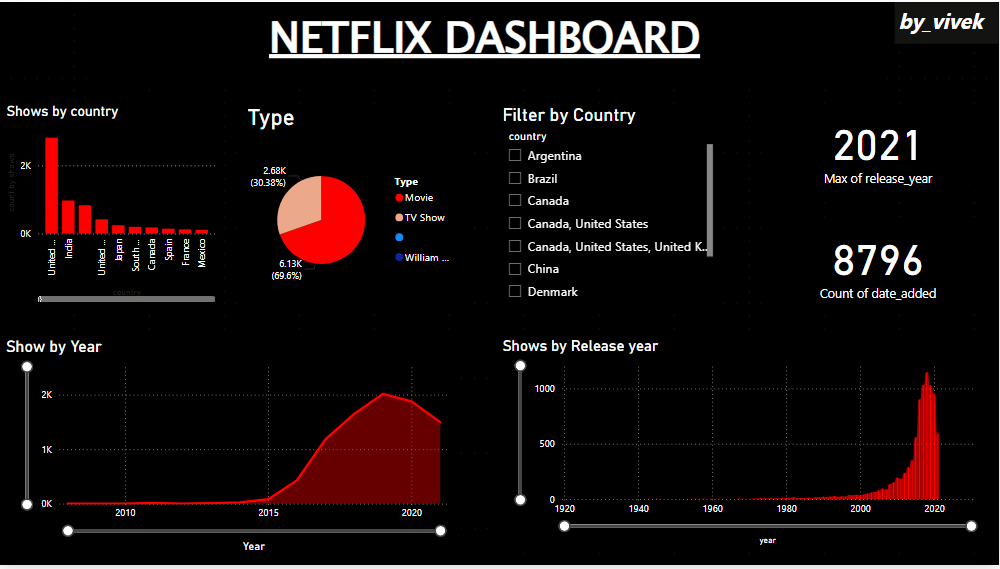

The page's visual inventory and layout, read from the dashboard file:
{"tool":"powerbi","page":{"name":"Page 1","canvas":[1280,720],"ordinal":0},"visuals":[{"type":"pieChart","title":" Type","fields":{"Category":["netflix_titles.Type"],"Y":["CountNonNull(netflix_titles.country)"]},"box":[313.6,129.7,279.4,260.8],"z":0},{"type":"lineChart","title":" Show  by Year","fields":{"Category":["netflix_titles.date_added.Variation.Date Hierarchy.Year","netflix_titles.date_added.Variation.Date Hierarchy.Quarter","netflix_titles.date_added.Variation.Date Hierarchy.Month","netflix_titles.date_added.Variation.Date Hierarchy.Day"],"Y":["CountNonNull(netflix_titles.Show id)"]},"box":[4.4,427.6,578.9,280.7],"z":1000},{"type":"columnChart","title":"Shows by country","fields":{"Category":["netflix_titles.country"],"Y":["netflix_titles.count by shows"]},"box":[4.4,129.5,279.3,261.8],"z":2000},{"type":"ribbonChart","title":"Shows by Release year","fields":{"Y":["netflix_titles.count by shows"],"Category":["netflix_titles.release_year"]},"box":[640,427.6,624.3,270.8],"z":3000},{"type":"card","fields":{"Values":["Max(netflix_titles.release_year)"]},"box":[984.9,129.7,279.4,111.2],"z":4000},{"type":"slicer","title":"Filter by Country","fields":{"Values":["netflix_titles.country"]},"box":[640,129.7,279.4,260.8],"z":5000},{"type":"card","fields":{"Values":["CountNonNull(netflix_titles.date_added)"]},"box":[984.9,276.5,279.4,114],"z":6000},{"type":"textbox","box":[119.7,0,1004.9,106.9],"z":7000},{"type":"textbox","box":[1146.7,0,133.3,53.3],"z":8000}]}

Visuals, with their boxes in screenshot pixels (x1, y1, x2, y2), scaled from the page's 1280x720 canvas onto the 1000x569 screenshot:
" Type" pieChart: bbox=(245, 102, 463, 309)
" Show  by Year" lineChart: bbox=(3, 338, 456, 560)
"Shows by country" columnChart: bbox=(3, 102, 222, 309)
"Shows by Release year" ribbonChart: bbox=(500, 338, 988, 552)
card - Max(netflix_titles.release_year): bbox=(769, 102, 988, 190)
"Filter by Country" slicer: bbox=(500, 102, 718, 309)
card - CountNonNull(netflix_titles.date_added): bbox=(769, 219, 988, 309)
textbox: bbox=(94, 0, 879, 84)
textbox: bbox=(896, 0, 999, 42)
